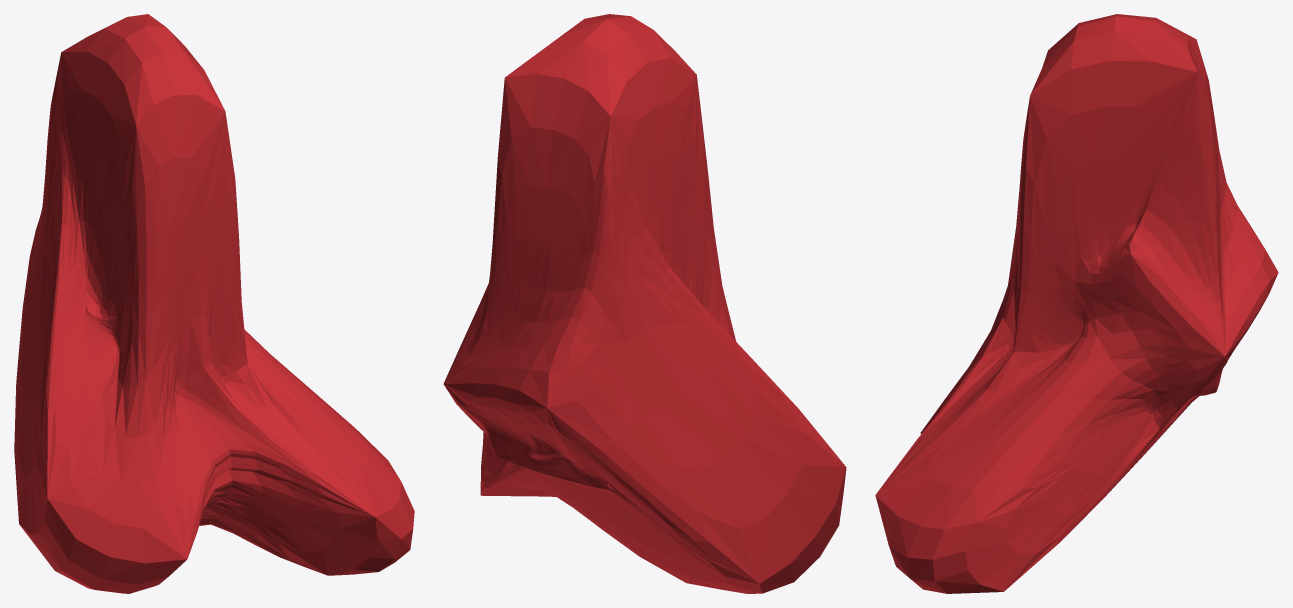
The picture shows the model from 3 angles, left to right: view 1: azimuth 30°, elevation 25°; view 2: azimuth 150°, elevation 25°; view 3: azimuth 270°, elevation 25°; orthographic projection. The views are drawn at different scales.
Visible parts, largest first — view 1: 600_Cube.2415; view 2: 600_Cube.2415; view 3: 600_Cube.2415.
Part boxes in pixels (x1=…): 600_Cube.2415: x1=14, y1=14, x2=414, y2=593; 600_Cube.2415: x1=443, y1=14, x2=846, y2=593; 600_Cube.2415: x1=875, y1=14, x2=1278, y2=593.
Bounding box in the file's own units: 10.99 × 16.25 × 11.61.
